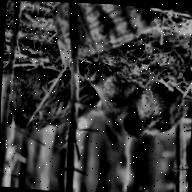boar: (78, 63, 189, 152), (6, 62, 101, 138)
